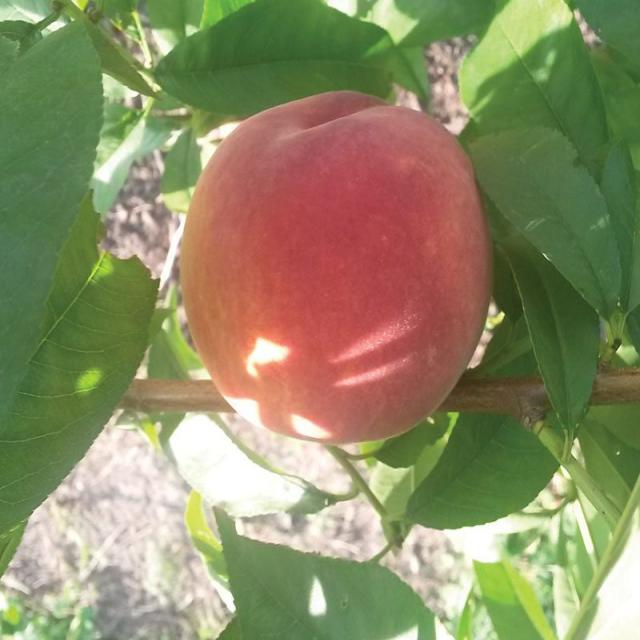Peach: (0, 0, 640, 635)
